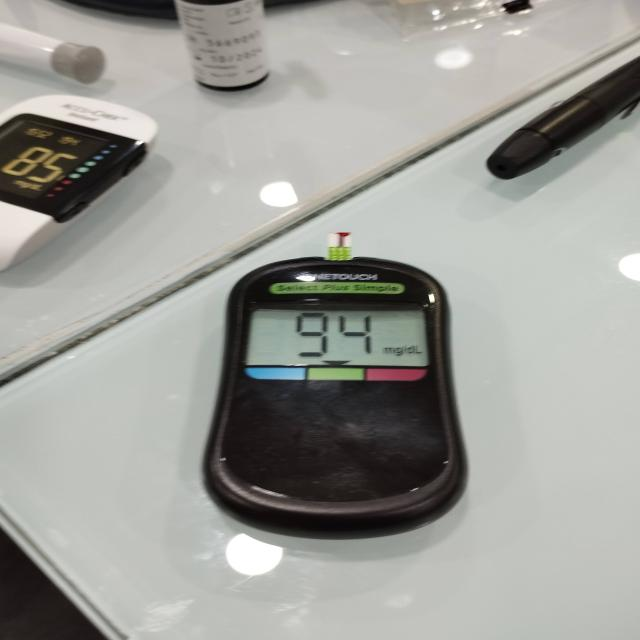gluco: (200, 234, 472, 546)
